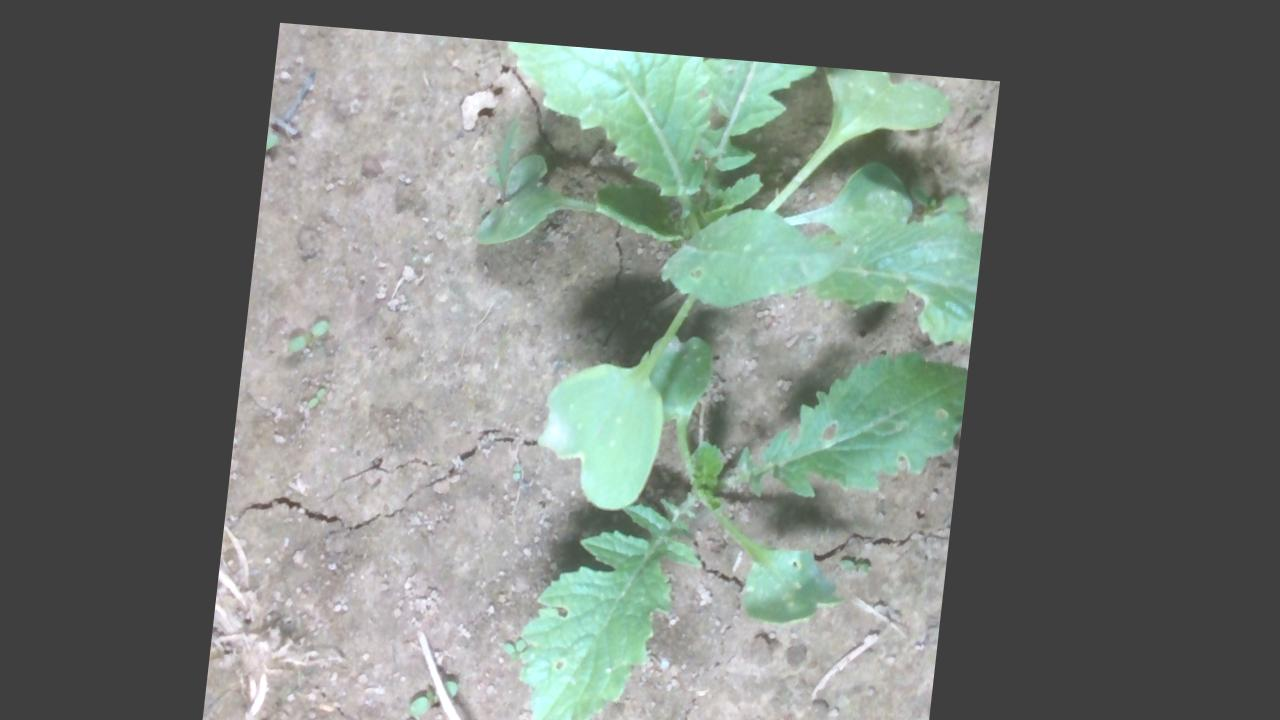weed: (424, 668, 478, 710), (292, 312, 334, 353), (314, 380, 335, 404)
